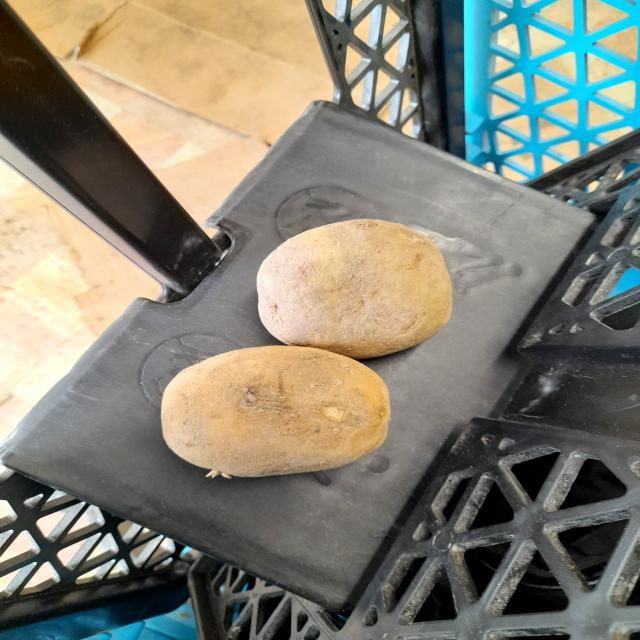potato: (150, 345, 400, 484), (244, 207, 460, 357)
